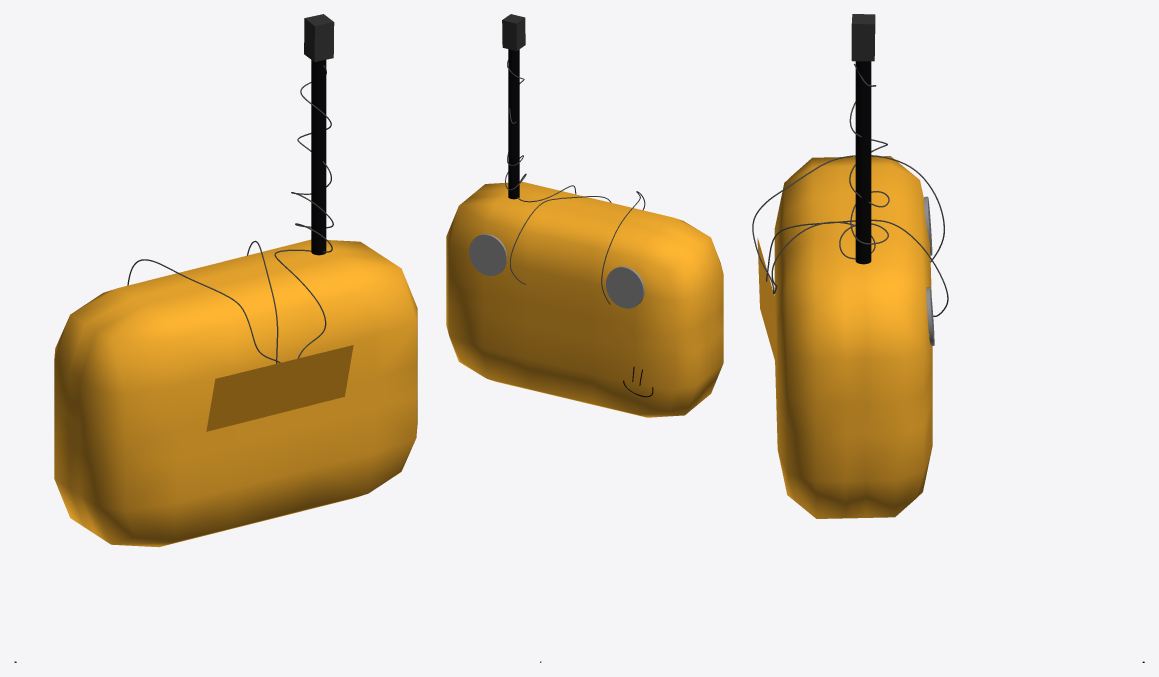
The model's file is radio.obj.
3 views of the same model, side by side, from view 1: azimuth 30°, elevation 25°; view 2: azimuth 150°, elevation 25°; view 3: azimuth 270°, elevation 25° (orthographic). The views are drawn at different scales.
Parts seen in each view (by area): view 1: s.0016, p.0030, p.0017, p.0035, s.0031; view 2: s.0016, p.0017, p.0041, p.0044, p.0035; view 3: s.0016, p.0017, p.0035, p.0030, s.0031, s.0034.
Boxes of the visible parts, x1,y1,x2,y2 form: s.0016: (54,239,417,547); p.0030: (206,345,353,431); p.0017: (311,60,326,255); p.0035: (304,14,334,62); s.0031: (274,65,333,358); s.0016: (446,181,723,417); p.0017: (508,49,519,199); p.0041: (606,266,644,308); p.0044: (469,234,507,275); p.0035: (502,14,525,50); s.0016: (774,156,932,518); p.0017: (855,61,871,264); p.0035: (851,14,875,61); p.0030: (757,238,777,367); s.0031: (771,63,889,293); s.0034: (752,155,944,294).
Bounding box in the file's own units: 0.335 × 0.6828 × 0.3325.
